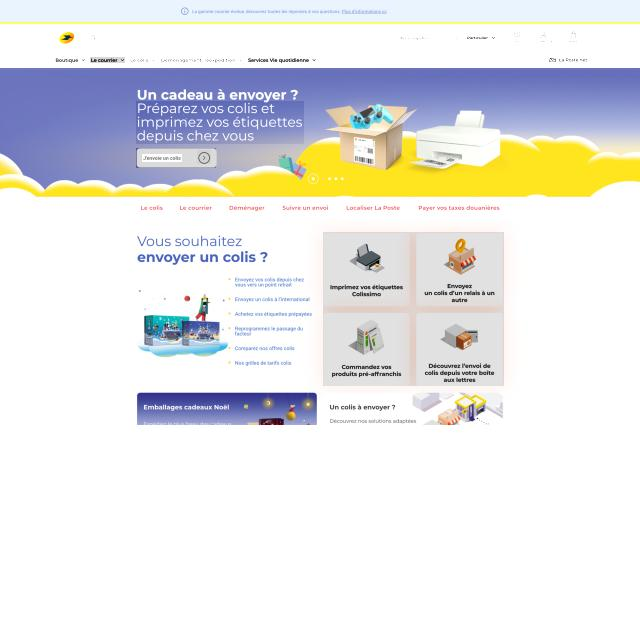CheckBox: (136, 148, 216, 168), (438, 30, 501, 46), (388, 30, 432, 46), (536, 28, 556, 44), (568, 28, 579, 44), (512, 30, 522, 44)
CheckedTextView: (86, 29, 222, 46)
Input field: (136, 101, 304, 144)
ProgressBar: (0, 0, 640, 23)
alert: (160, 56, 244, 64), (248, 57, 317, 64), (54, 57, 87, 64), (90, 57, 125, 63), (130, 56, 156, 64)
bag: (0, 22, 640, 68)
card: (0, 68, 640, 196)
carousel: (197, 150, 211, 164)
content: (323, 232, 504, 386)
data feed: (142, 154, 182, 162)
date picker: (58, 30, 75, 45)
decoration: (136, 201, 504, 220), (51, 54, 320, 65)
footer: (99, 35, 199, 42)
